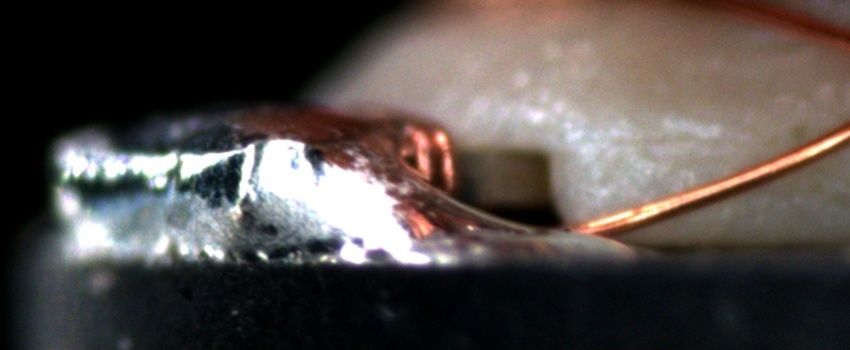DL: (598, 128, 821, 172)
TE: (387, 96, 457, 198)
